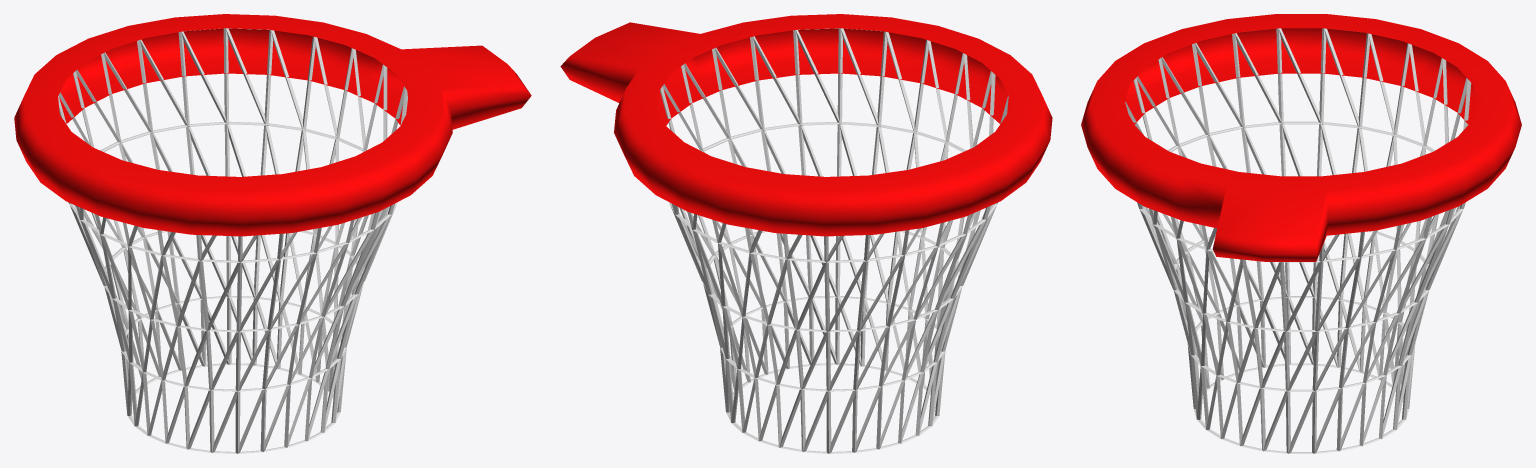
The model's file is basketball_hoop.glb.
The picture shows the model from 3 angles, left to right: view 1: azimuth 30°, elevation 25°; view 2: azimuth 150°, elevation 25°; view 3: azimuth 270°, elevation 25°; orthographic projection.
Parts seen in each view (by area): view 1: Cylinder.001_3, Cylinder_2; view 2: Cylinder.001_3, Cylinder_2; view 3: Cylinder.001_3, Cylinder_2.
Boxes of the visible parts, bbox=[...] form: Cylinder.001_3: bbox=[14, 14, 531, 236]; Cylinder_2: bbox=[58, 28, 407, 453]; Cylinder.001_3: bbox=[560, 14, 1052, 236]; Cylinder_2: bbox=[660, 28, 1008, 453]; Cylinder.001_3: bbox=[1081, 14, 1521, 261]; Cylinder_2: bbox=[1125, 28, 1471, 453].
Size of the model in its own units: 1.03 by 0.663 by 0.8644.
